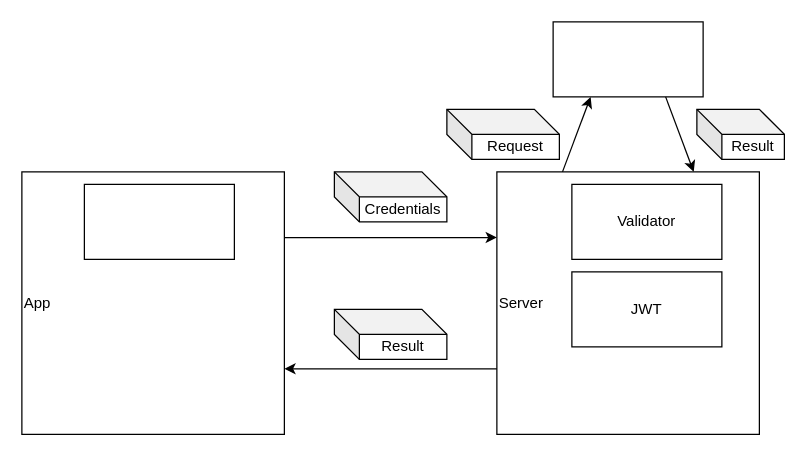
Some shapes in this 806 by 456 pixel diagram are drawn without their labels. Each missing label, with the centre of its shape:
Database: (x=627, y=59)
Login Page: (x=158, y=221)
